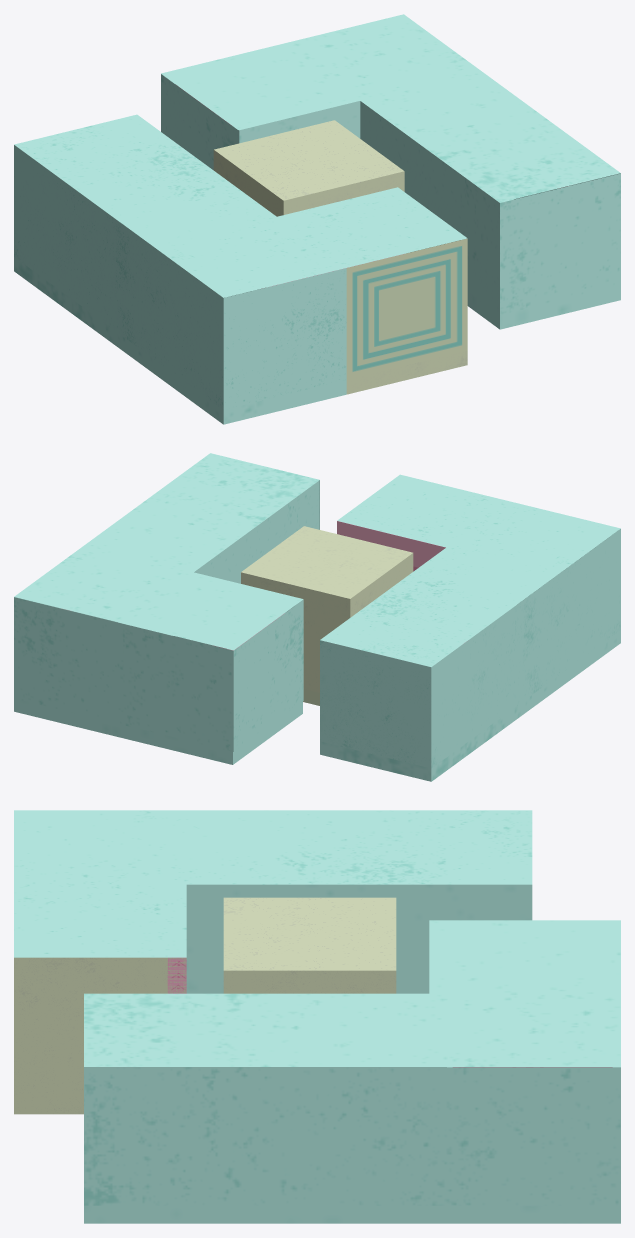
Rendered from level05.fbx.
The picture shows the model from 3 angles, top to bottom: view 1: azimuth 30°, elevation 25°; view 2: azimuth 150°, elevation 25°; view 3: azimuth 270°, elevation 25°; orthographic projection. The views are drawn at different scales.
Visible parts, largest first — view 1: Plane.069, Plane.068, Plane.064, Plane.065, Plane.043, Plane.057, Plane.055, Plane.066, Plane.061, Plane.067, Plane.062, Plane.054; view 2: Plane.064, Plane.069, Plane.068, Plane.065, Plane.056, Plane.066, Plane.067, Plane.061, Plane.055, Plane.062, Plane.036, Plane.042; view 3: Plane.065, Plane.069, Plane.068, Plane.054, Plane.042, Plane.066, Plane.062, Plane.067, Plane.036.
Boxes of the visible parts, x1,y1,x2,y2 form: Plane.069: (161, 14, 620, 202); Plane.068: (14, 114, 467, 297); Plane.064: (14, 145, 223, 409); Plane.065: (161, 74, 620, 314); Plane.043: (223, 268, 346, 409); Plane.057: (346, 238, 467, 379); Plane.055: (232, 100, 513, 314); Plane.066: (214, 120, 403, 200); Plane.061: (14, 257, 346, 424); Plane.067: (213, 150, 404, 216); Plane.062: (467, 285, 620, 329); Plane.054: (346, 238, 467, 394); Plane.064: (320, 529, 620, 768); Plane.069: (14, 453, 319, 650); Plane.068: (320, 474, 620, 666); Plane.065: (14, 480, 319, 751); Plane.056: (14, 597, 123, 724); Plane.066: (241, 526, 412, 598); Plane.067: (241, 553, 413, 692); Plane.061: (320, 605, 620, 781); Plane.055: (174, 480, 319, 645); Plane.062: (14, 622, 302, 764); Plane.036: (337, 521, 445, 571); Plane.042: (320, 640, 459, 744); Plane.065: (84, 1067, 620, 1205); Plane.069: (84, 920, 620, 1066); Plane.068: (14, 810, 532, 957); Plane.054: (14, 957, 186, 1114); Plane.042: (186, 884, 532, 993); Plane.066: (223, 897, 396, 970); Plane.062: (84, 1067, 620, 1223); Plane.067: (223, 970, 396, 993); Plane.036: (167, 957, 186, 993).
Size of the model in its own units: 704 by 201 by 703.
